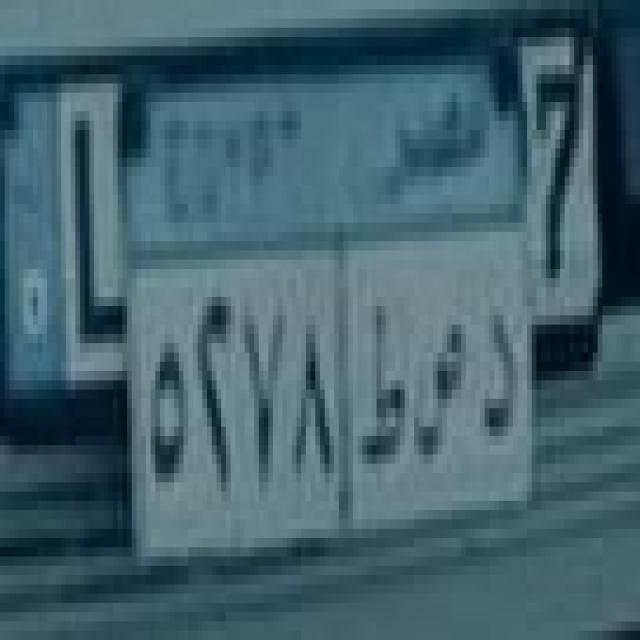2: (194, 288, 237, 504)
5: (148, 326, 192, 487)
7: (243, 292, 290, 494)
8: (290, 306, 337, 487)
Saad: (410, 313, 468, 469)
Taa: (354, 291, 408, 476)
daal: (474, 307, 522, 450)
